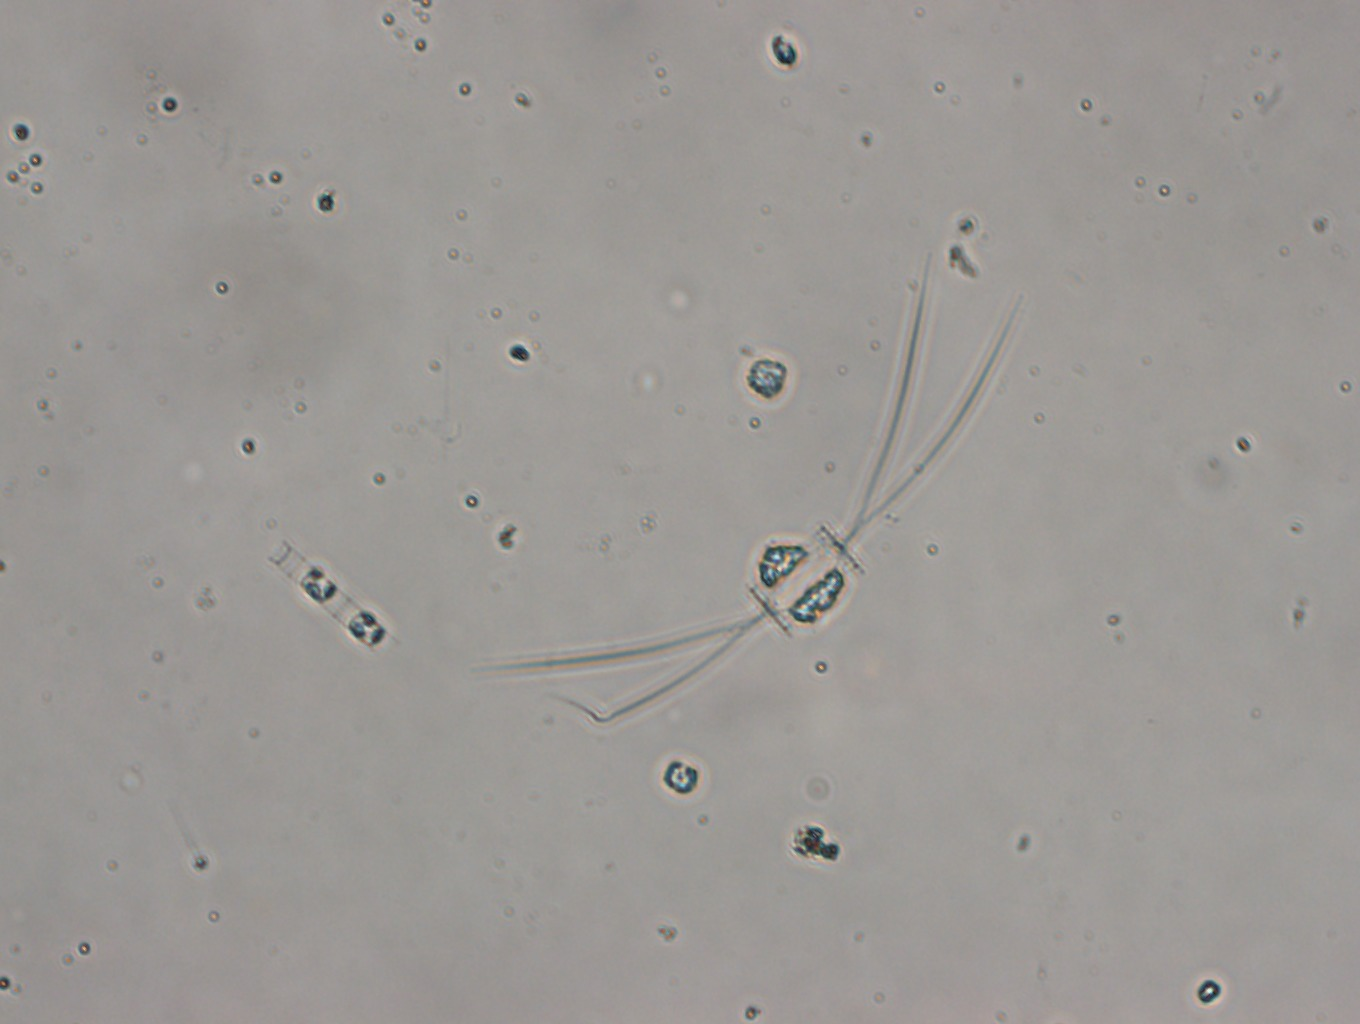chaetoceros: (502, 265, 1025, 745)
